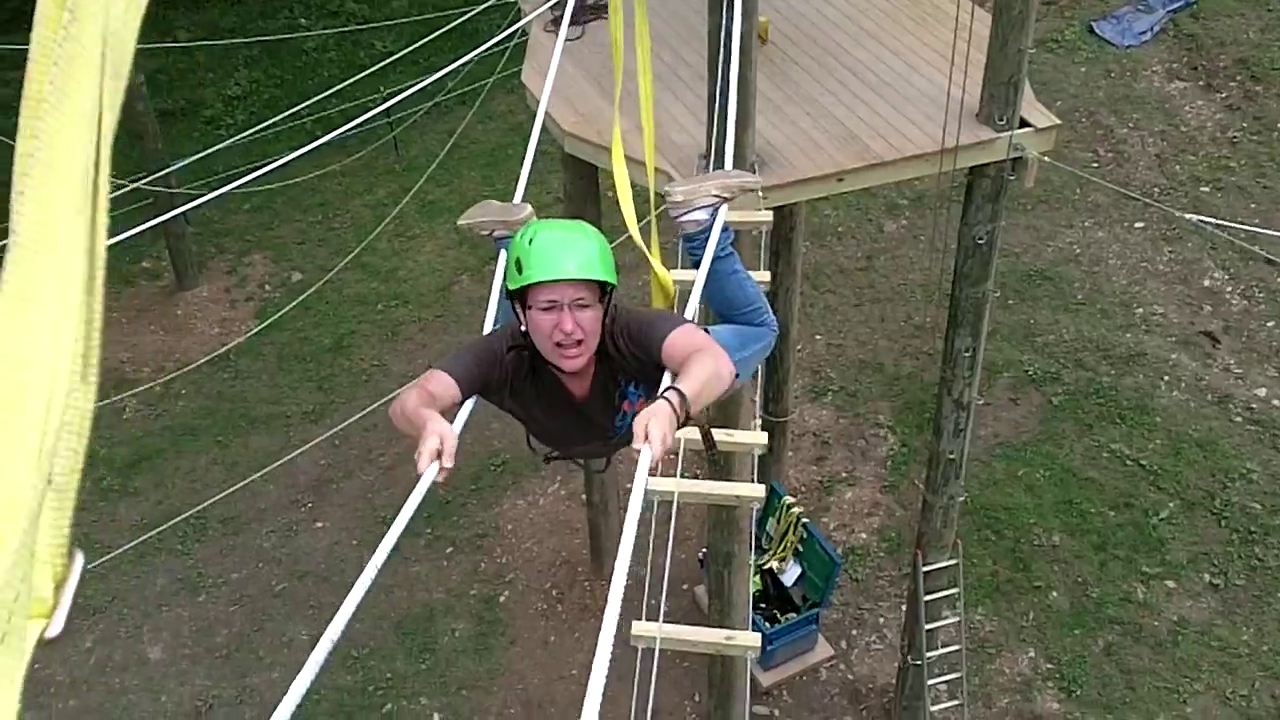person: (388, 170, 780, 483)
